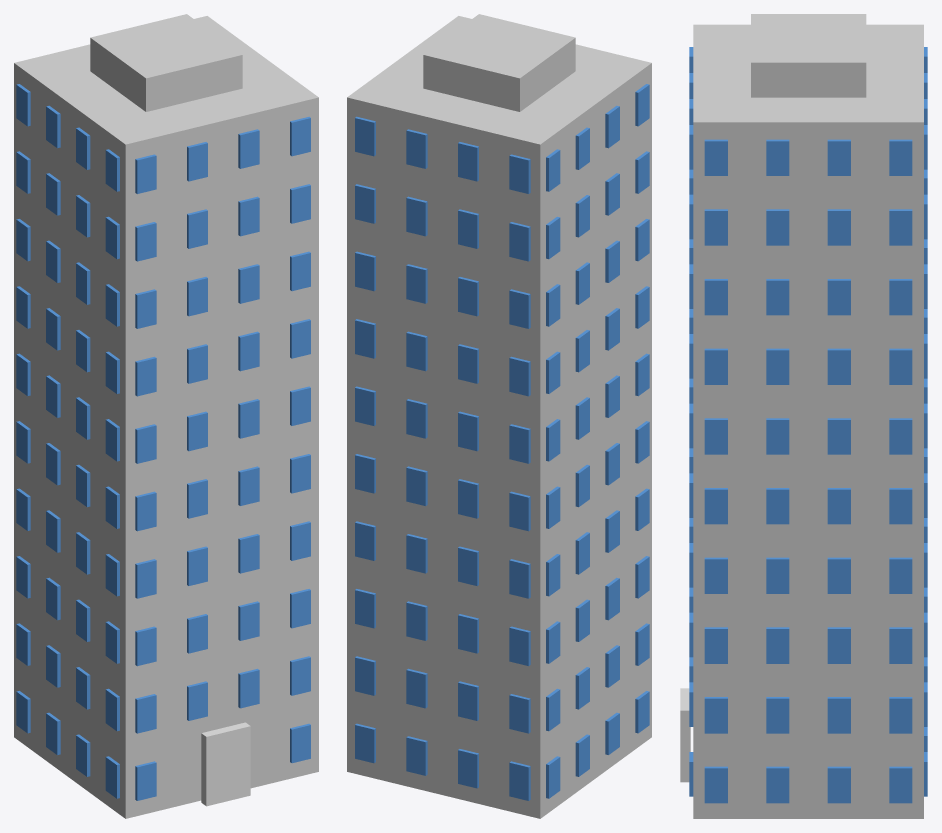
The model's file is house_tall.glb.
3 renders of one model, left to right at view 1: azimuth 30°, elevation 25°; view 2: azimuth 150°, elevation 25°; view 3: azimuth 270°, elevation 25°, orthographic. The views are drawn at different scales.
Visible parts, largest first — view 1: Hochhaus, Dach, Eingang, Fenster_Front.019, Fenster_Front.033, Fenster_Front.057, Fenster_Front.009, Fenster_Front.013, Fenster_Front.031, Fenster_Front.037, Fenster_Front.043, Fenster_Front.045 (+29 smaller); view 2: Hochhaus, Dach, Fenster_Back.003, Fenster_Back.019, Fenster_Back.033, Fenster_Back.057, Fenster_Back.009, Fenster_Back.013, Fenster_Back.031, Fenster_Back.037, Fenster_Back.043, Fenster_Back.045 (+30 smaller); view 3: Hochhaus, Dach, Eingang, Fenster_Right.001, Fenster_Right.002, Fenster_Right.003, Fenster_Right.004, Fenster_Right.007, Fenster_Right.008, Fenster_Right.009, Fenster_Right.010, Fenster_Right.013 (+31 smaller).
Boxes of the visible parts, bbox=[...] form: Hochhaus: bbox=[14, 16, 318, 818]; Dach: bbox=[90, 14, 242, 111]; Eingang: bbox=[201, 722, 250, 806]; Fenster_Front.019: bbox=[135, 559, 156, 598]; Fenster_Front.033: bbox=[238, 399, 259, 438]; Fenster_Front.057: bbox=[238, 129, 259, 168]; Fenster_Front.009: bbox=[238, 668, 259, 708]; Fenster_Front.013: bbox=[135, 626, 156, 666]; Fenster_Front.031: bbox=[135, 424, 156, 463]; Fenster_Front.037: bbox=[135, 356, 156, 396]; Fenster_Front.043: bbox=[135, 289, 156, 328]; Fenster_Front.045: bbox=[238, 264, 259, 303]; Hochhaus: bbox=[347, 16, 651, 818]; Dach: bbox=[423, 14, 575, 111]; Fenster_Back.003: bbox=[406, 736, 427, 775]; Fenster_Back.019: bbox=[509, 559, 530, 598]; Fenster_Back.033: bbox=[406, 399, 427, 438]; Fenster_Back.057: bbox=[406, 129, 427, 168]; Fenster_Back.009: bbox=[406, 668, 427, 708]; Fenster_Back.013: bbox=[509, 626, 530, 666]; Fenster_Back.031: bbox=[509, 424, 530, 463]; Fenster_Back.037: bbox=[509, 356, 530, 396]; Fenster_Back.043: bbox=[509, 289, 530, 328]; Fenster_Back.045: bbox=[406, 264, 427, 303]; Hochhaus: bbox=[693, 24, 923, 818]; Dach: bbox=[751, 14, 866, 97]; Eingang: bbox=[680, 688, 690, 782]; Fenster_Right.001: bbox=[704, 766, 727, 803]; Fenster_Right.002: bbox=[766, 766, 789, 803]; Fenster_Right.003: bbox=[827, 766, 850, 803]; Fenster_Right.004: bbox=[889, 766, 912, 803]; Fenster_Right.007: bbox=[704, 697, 727, 733]; Fenster_Right.008: bbox=[766, 697, 789, 733]; Fenster_Right.009: bbox=[827, 697, 850, 733]; Fenster_Right.010: bbox=[889, 697, 912, 733]; Fenster_Right.013: bbox=[704, 627, 727, 663].
Size of the model in its own units: 6.2 by 21.04 by 6.44.
